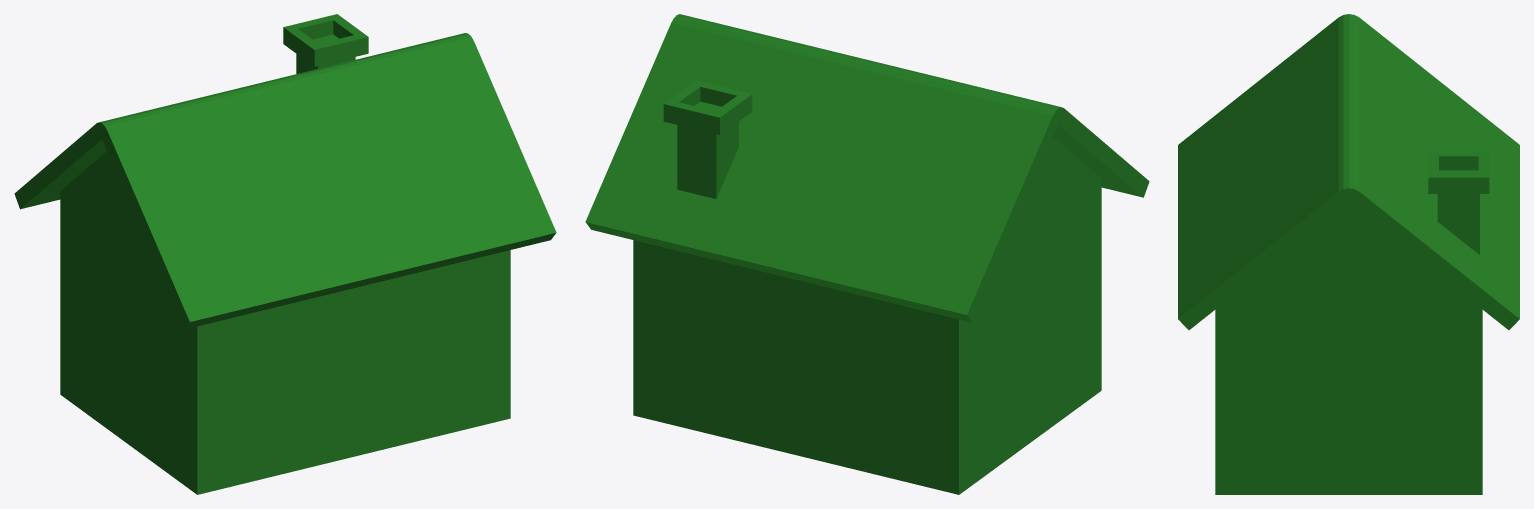
Rendered from House.glb.
3 renders of one model, left to right at view 1: azimuth 30°, elevation 25°; view 2: azimuth 150°, elevation 25°; view 3: azimuth 270°, elevation 25°, orthographic. The views are drawn at different scales.
Parts seen in each view (by area): view 1: House; view 2: House; view 3: House.
Part boxes in pixels (x1=…): House: x1=14, y1=14, x2=556, y2=494; House: x1=585, y1=14, x2=1149, y2=494; House: x1=1178, y1=14, x2=1519, y2=494.
Size of the model in its own units: 1.23 by 1.05 by 1.02.
